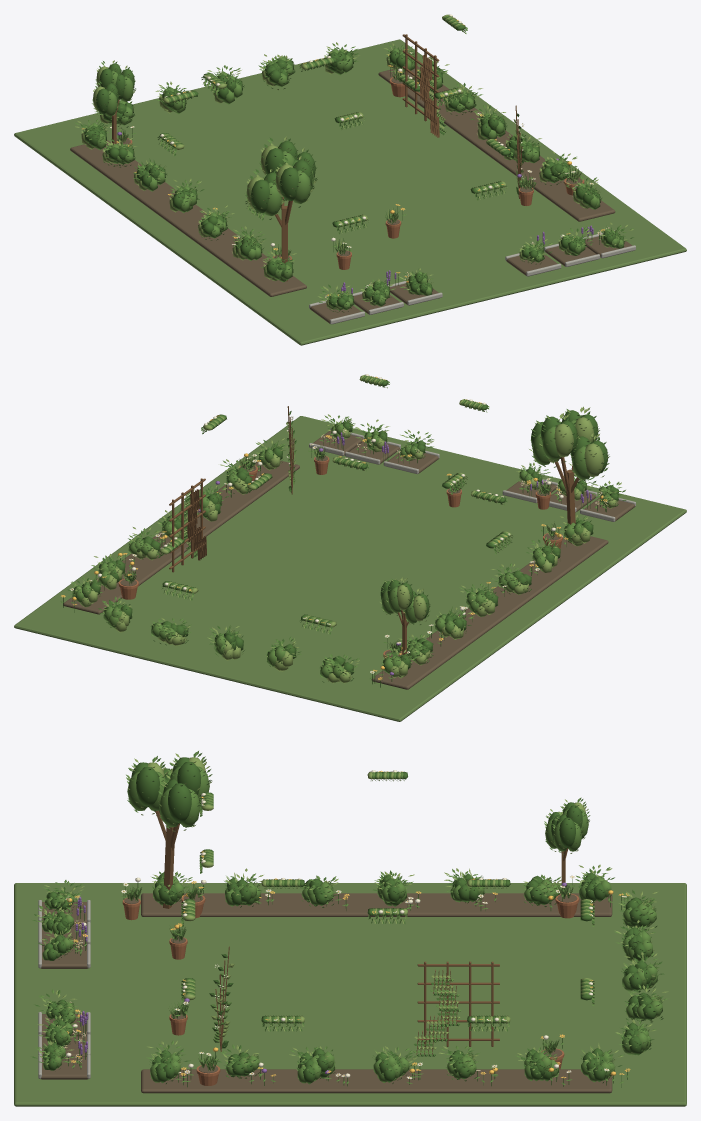
The model's file is SM_IntellectualGrandpaHouse_Garden.fbx.
3 renders of one model, top to bottom at view 1: azimuth 30°, elevation 25°; view 2: azimuth 150°, elevation 25°; view 3: azimuth 270°, elevation 25°, orthographic. The views are drawn at different scales.
Visible parts, largest first — view 1: SM_IntellectualGrandpaHouse_Garden; view 2: SM_IntellectualGrandpaHouse_Garden; view 3: SM_IntellectualGrandpaHouse_Garden.
Part boxes in pixels (x1,y1,x2,y2): SM_IntellectualGrandpaHouse_Garden: (14,14,686,345); SM_IntellectualGrandpaHouse_Garden: (14,374,686,721); SM_IntellectualGrandpaHouse_Garden: (14,751,686,1106).
Size of what is drawn, in the model's own units: 1400 by 1800 by 482.
